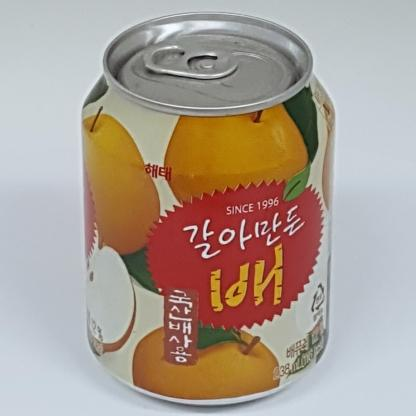-------238ML: (81, 11, 335, 406)
